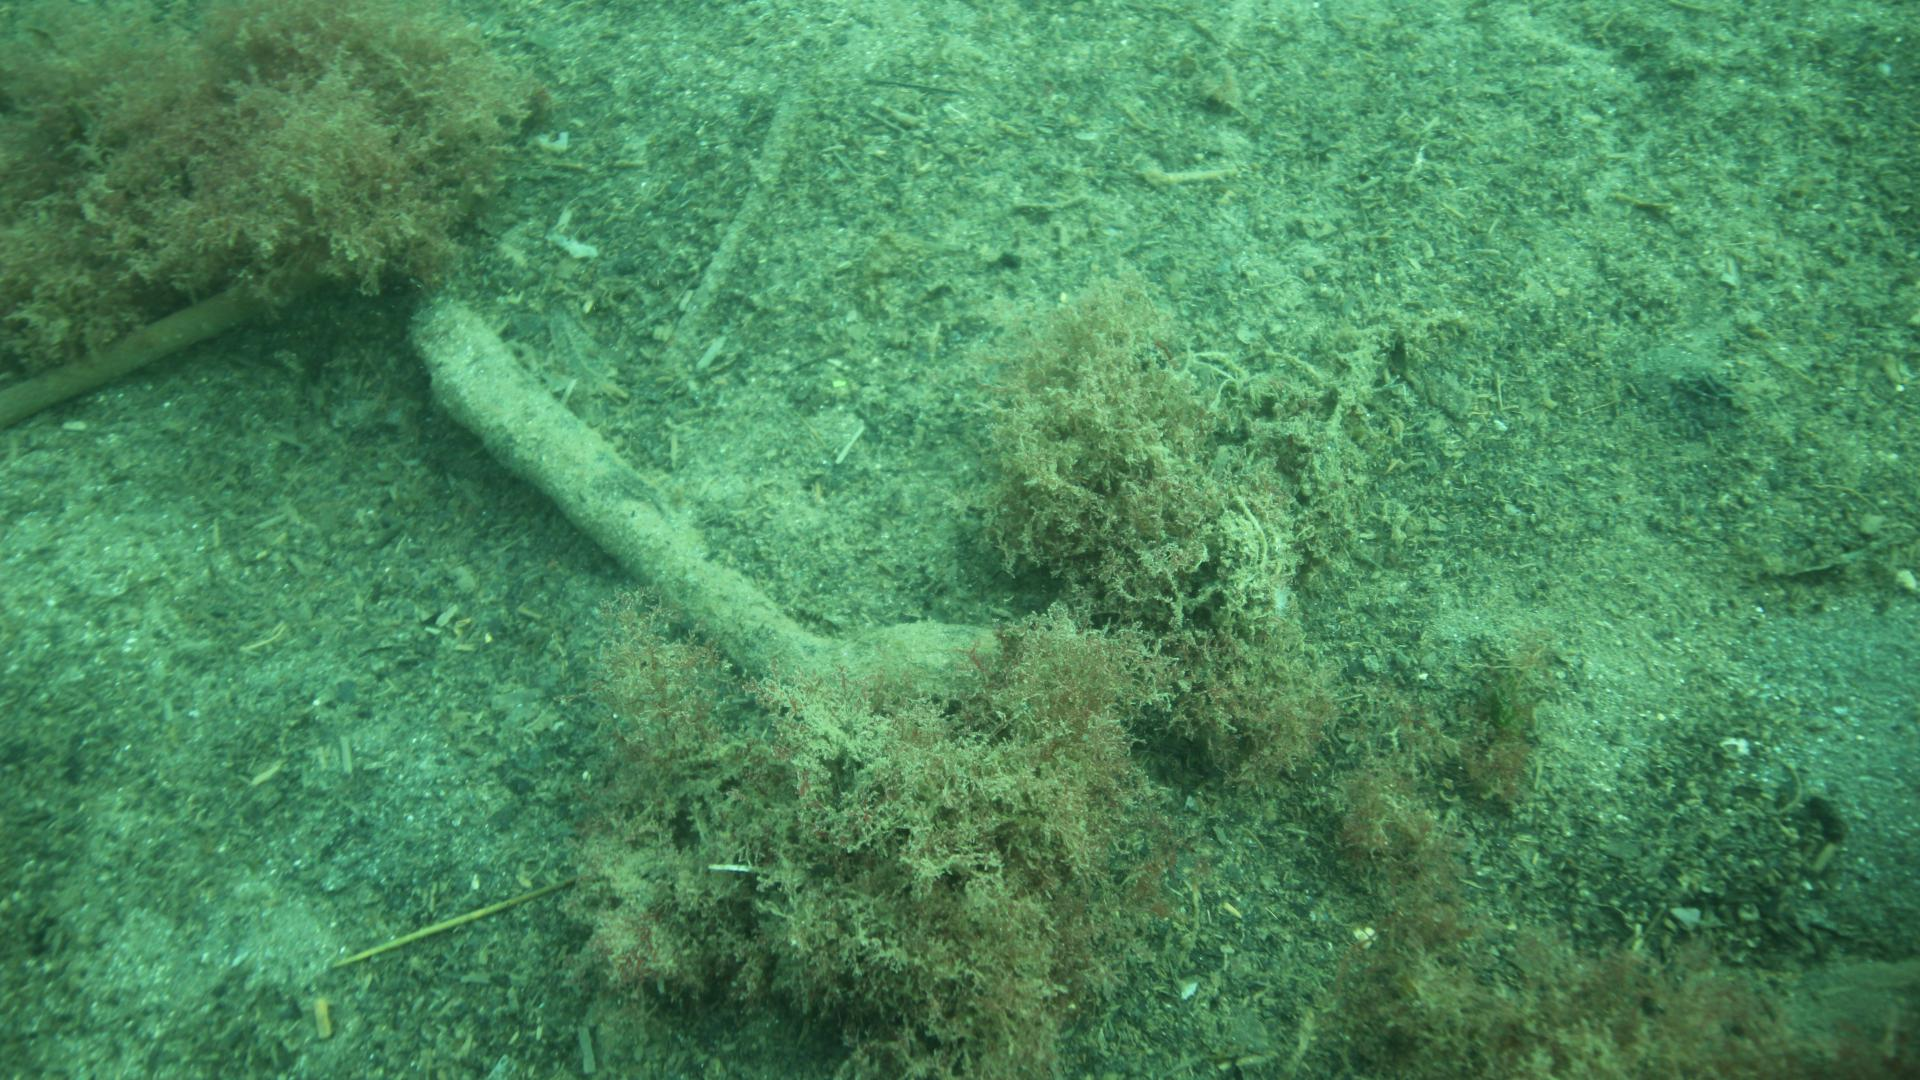wood: (413, 294, 1002, 700)
